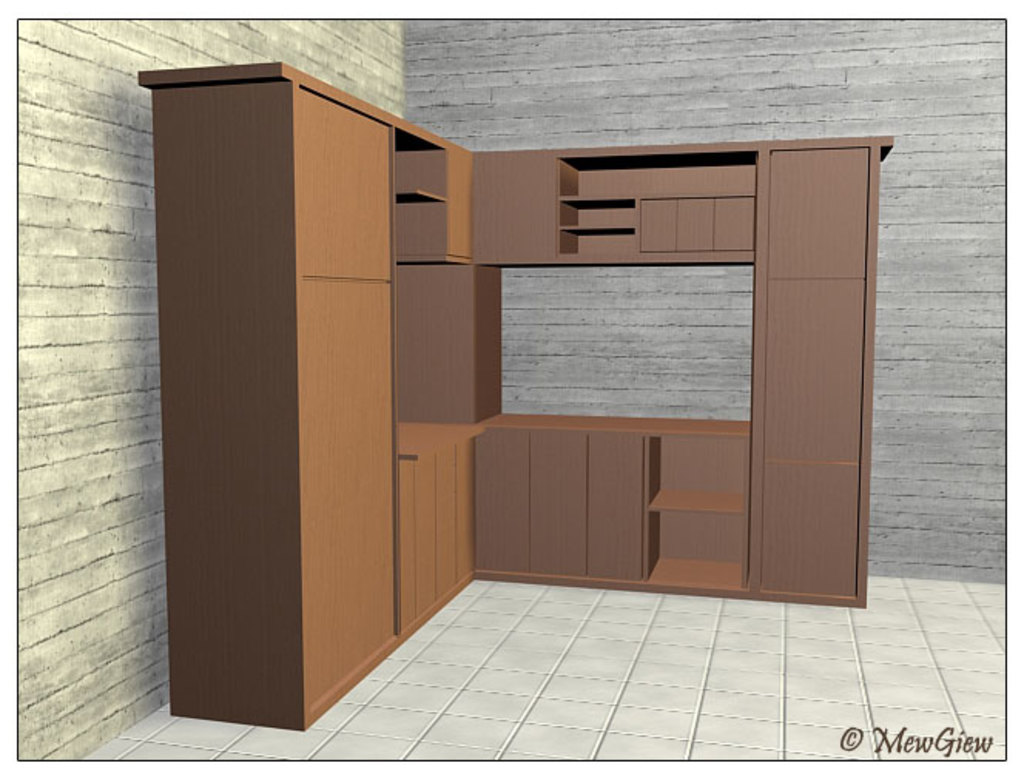cabinet door: (302, 281, 394, 655), (770, 281, 862, 458), (297, 99, 391, 268), (766, 464, 859, 595), (770, 155, 866, 276), (474, 156, 558, 256), (530, 431, 590, 561), (587, 438, 641, 573), (473, 437, 534, 550), (413, 454, 436, 606), (449, 446, 475, 572), (401, 458, 418, 623), (434, 448, 454, 588), (447, 154, 471, 256), (714, 199, 756, 255), (674, 200, 713, 255), (641, 197, 674, 254)
